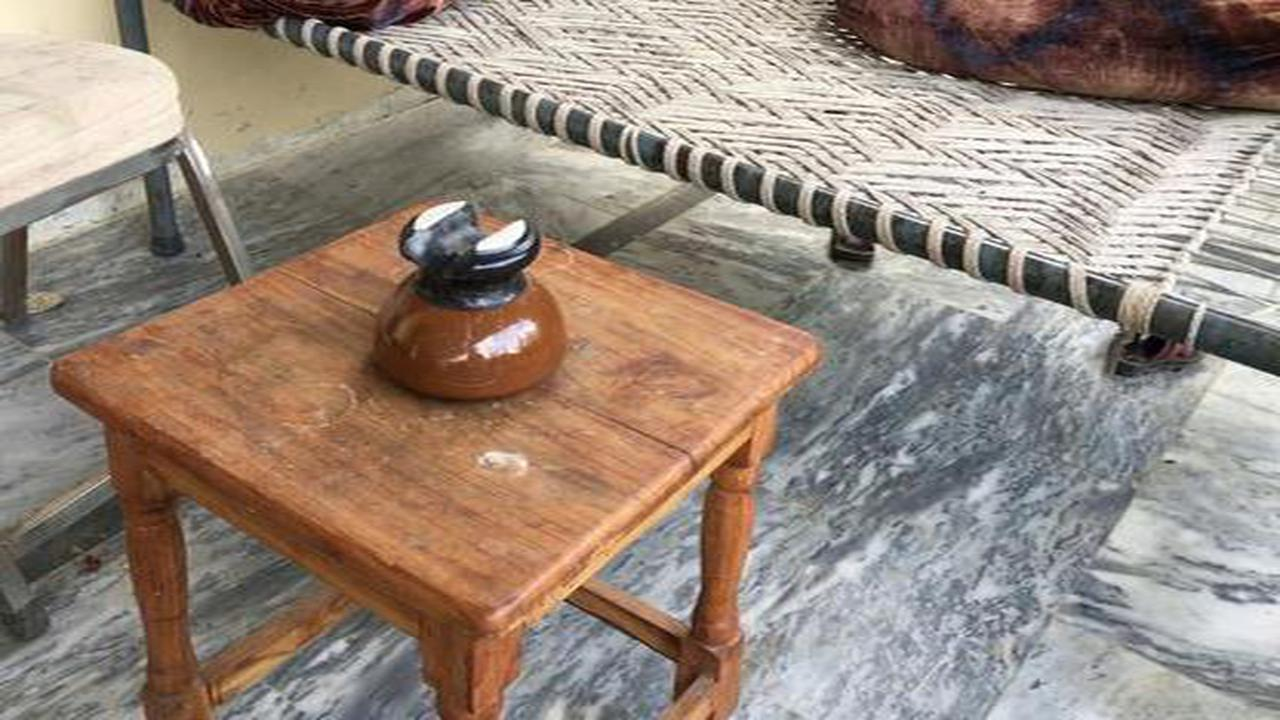insulator_pin: (351, 174, 582, 416)
